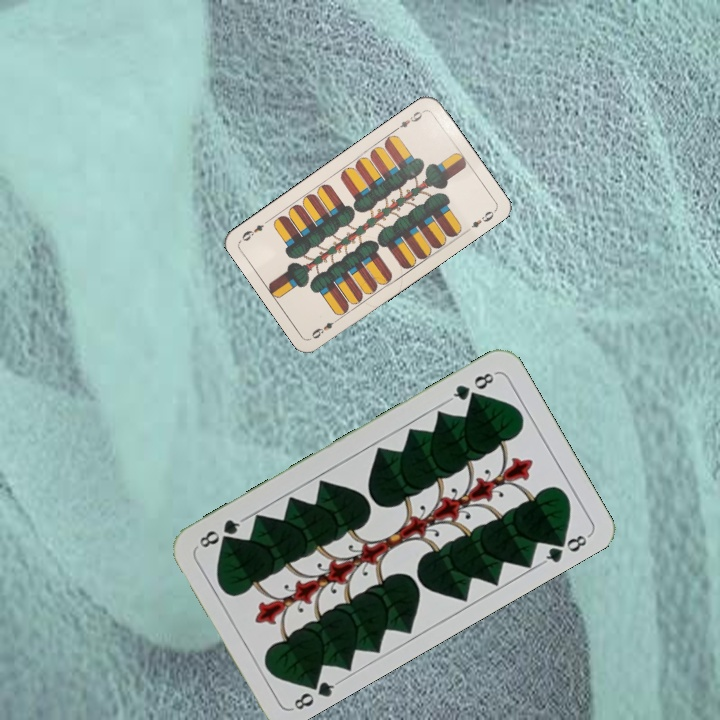E9: (391, 106, 427, 134), (307, 314, 343, 341)
G8: (288, 672, 342, 713), (445, 368, 499, 404)
